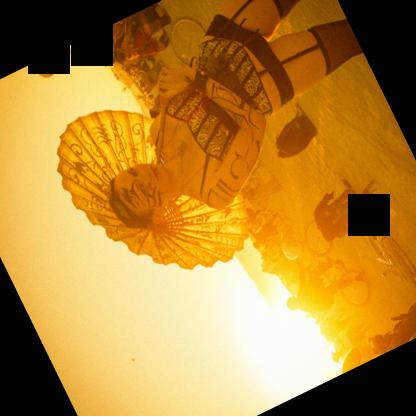backpack: (275, 100, 318, 158), (322, 183, 368, 230), (129, 34, 160, 56), (130, 54, 155, 72)
